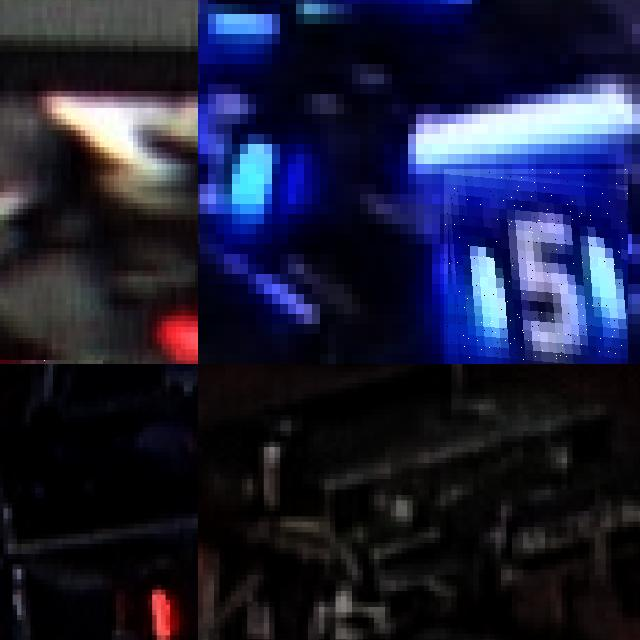B5: (444, 169, 628, 364), (198, 54, 280, 234)
R1: (115, 543, 198, 640)
